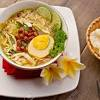soto: (1, 1, 86, 86)
